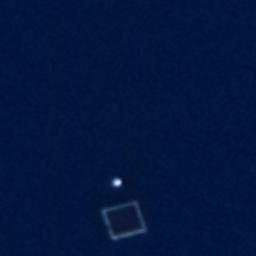square_solid: (97, 198, 152, 243)
